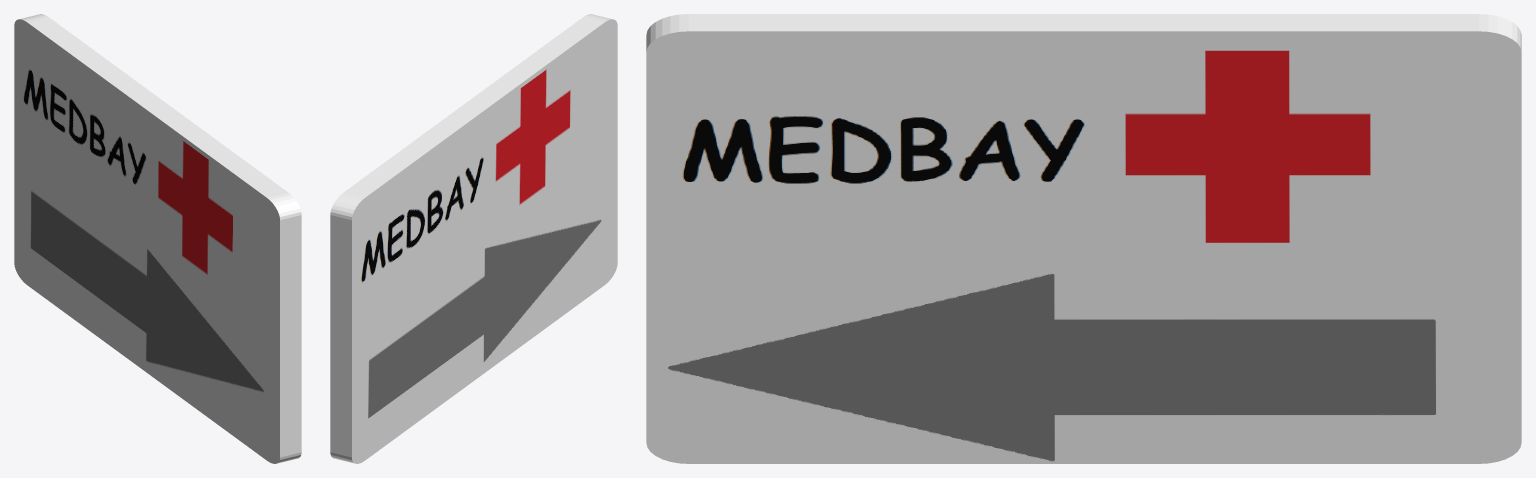
The model's file is medbaysign.fbx.
3 views of the same model, side by side, from view 1: azimuth 30°, elevation 25°; view 2: azimuth 150°, elevation 25°; view 3: azimuth 270°, elevation 25° (orthographic). The views are drawn at different scales.
Parts seen in each view (by area): view 1: Cube; view 2: Cube; view 3: Cube.
Boxes of the visible parts, box(x1,y1,x2,y2) form: Cube: box(14, 14, 301, 463); Cube: box(330, 14, 617, 463); Cube: box(646, 14, 1521, 463).
Size of the model in its own units: 17.2 by 200 by 367.
